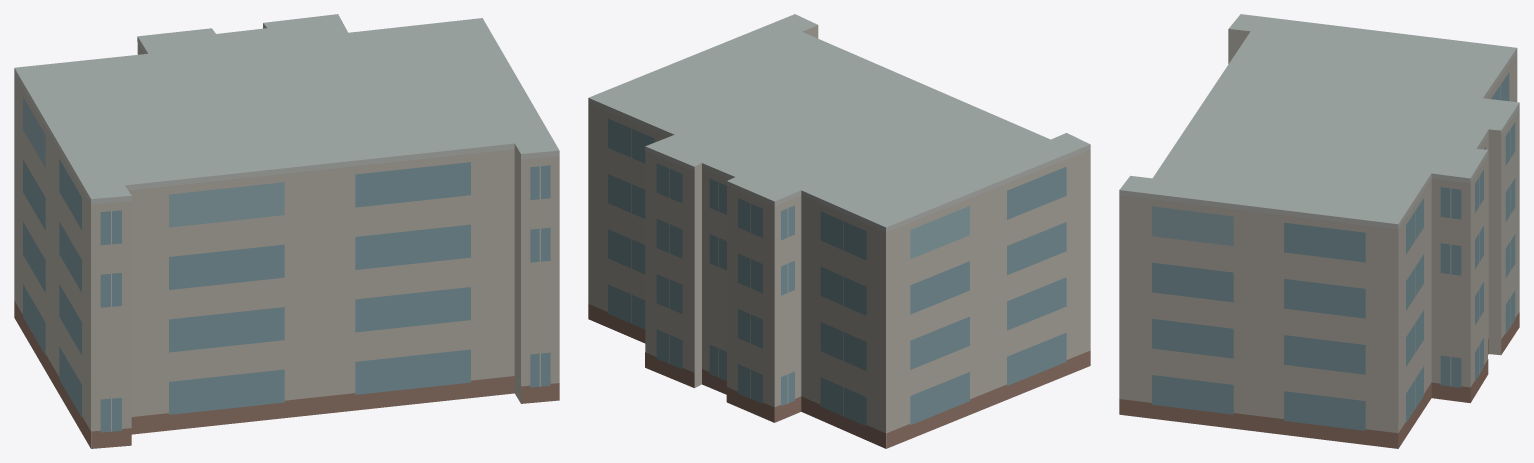
The model's file is survey-upis-32996879.glb.
The picture shows the model from 3 angles, left to right: view 1: azimuth 30°, elevation 25°; view 2: azimuth 150°, elevation 25°; view 3: azimuth 270°, elevation 25°; orthographic projection. The views are drawn at different scales.
Parts seen in each view (by area): view 1: survey-upis-32996879.tmp; view 2: survey-upis-32996879.tmp; view 3: survey-upis-32996879.tmp.
Part boxes in pixels (bbox=[...]): survey-upis-32996879.tmp: bbox=[14, 14, 559, 448]; survey-upis-32996879.tmp: bbox=[588, 14, 1090, 448]; survey-upis-32996879.tmp: bbox=[1119, 14, 1519, 448].
Bounding box in the file's own units: 22.29 × 11.1 × 17.94.
